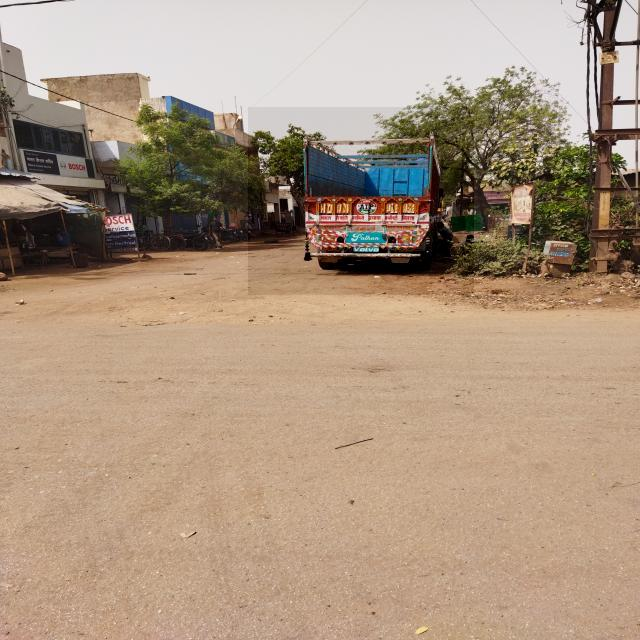Truck: (248, 107, 474, 295)
